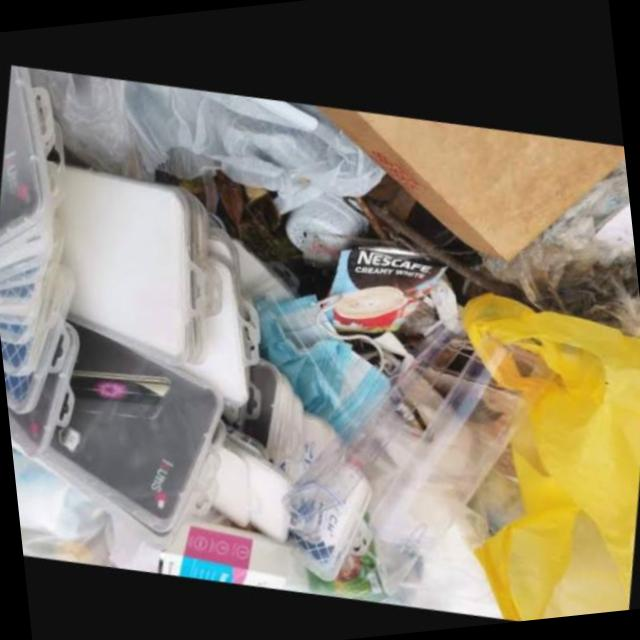goi_nhua_nho: (328, 241, 447, 327)
hop_nhua: (35, 313, 227, 546), (371, 326, 557, 546), (283, 311, 469, 515), (54, 161, 206, 362), (179, 246, 261, 402), (0, 255, 79, 412), (285, 471, 375, 577), (0, 63, 52, 243), (0, 136, 65, 269), (222, 421, 296, 537), (205, 443, 252, 522)
khau_trang: (273, 284, 394, 435), (259, 291, 355, 418)
tui_ni_long: (462, 282, 640, 616), (27, 65, 385, 207)
